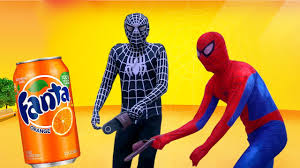fanta: (15, 61, 82, 168)
